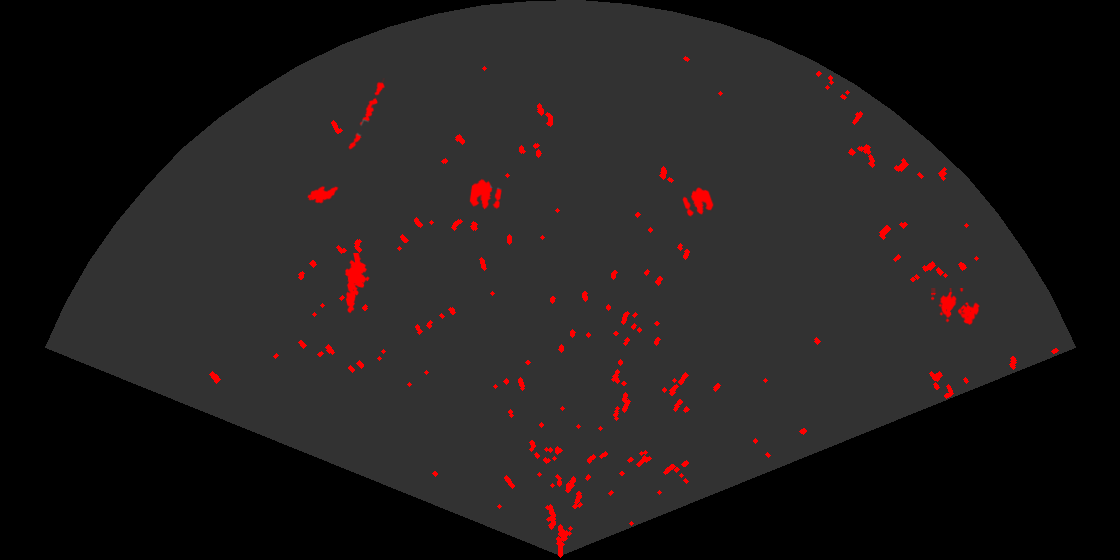AUV: (306, 184, 340, 205)
ball: (468, 177, 503, 211), (681, 186, 715, 218)
cage: (931, 288, 981, 327)
chain: (347, 78, 386, 151)
frogman: (343, 253, 371, 314)
